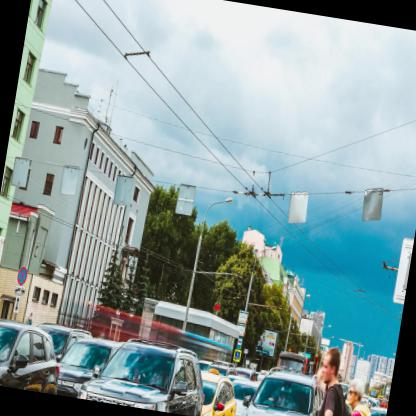car: (71, 330, 213, 415), (48, 331, 124, 403), (0, 317, 68, 395), (231, 360, 327, 415), (195, 370, 243, 415), (363, 405, 387, 415)
